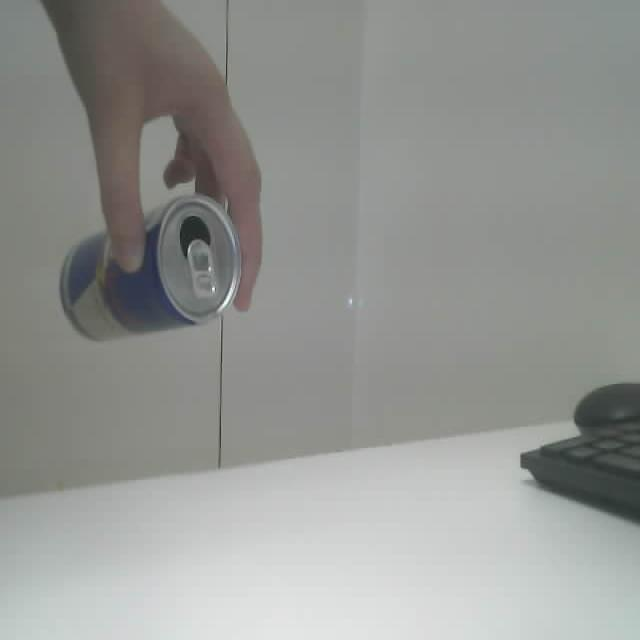redbull can: (60, 195, 240, 341)
